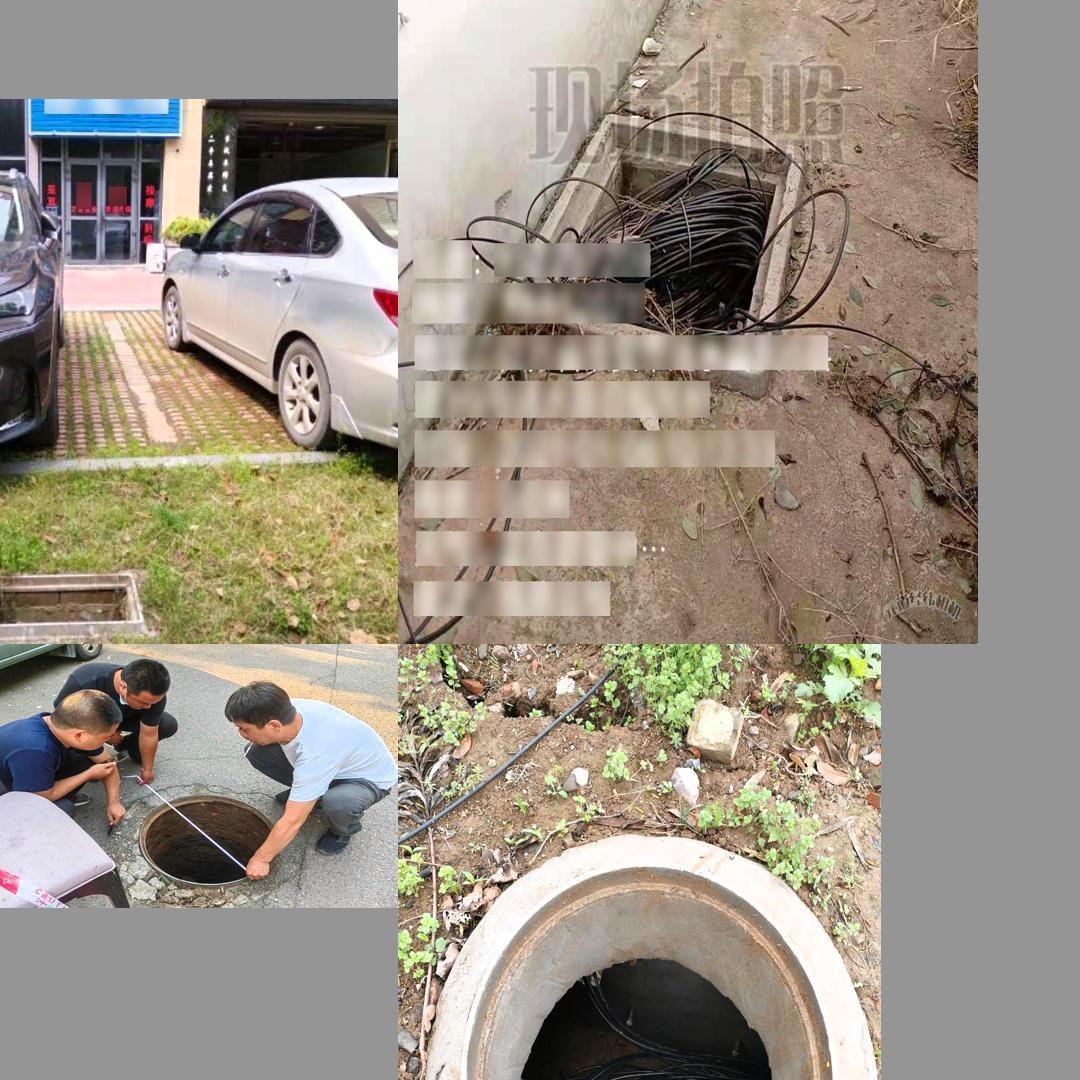lose: (497, 113, 805, 401), (440, 843, 813, 1080), (136, 791, 282, 887), (0, 562, 146, 634)
